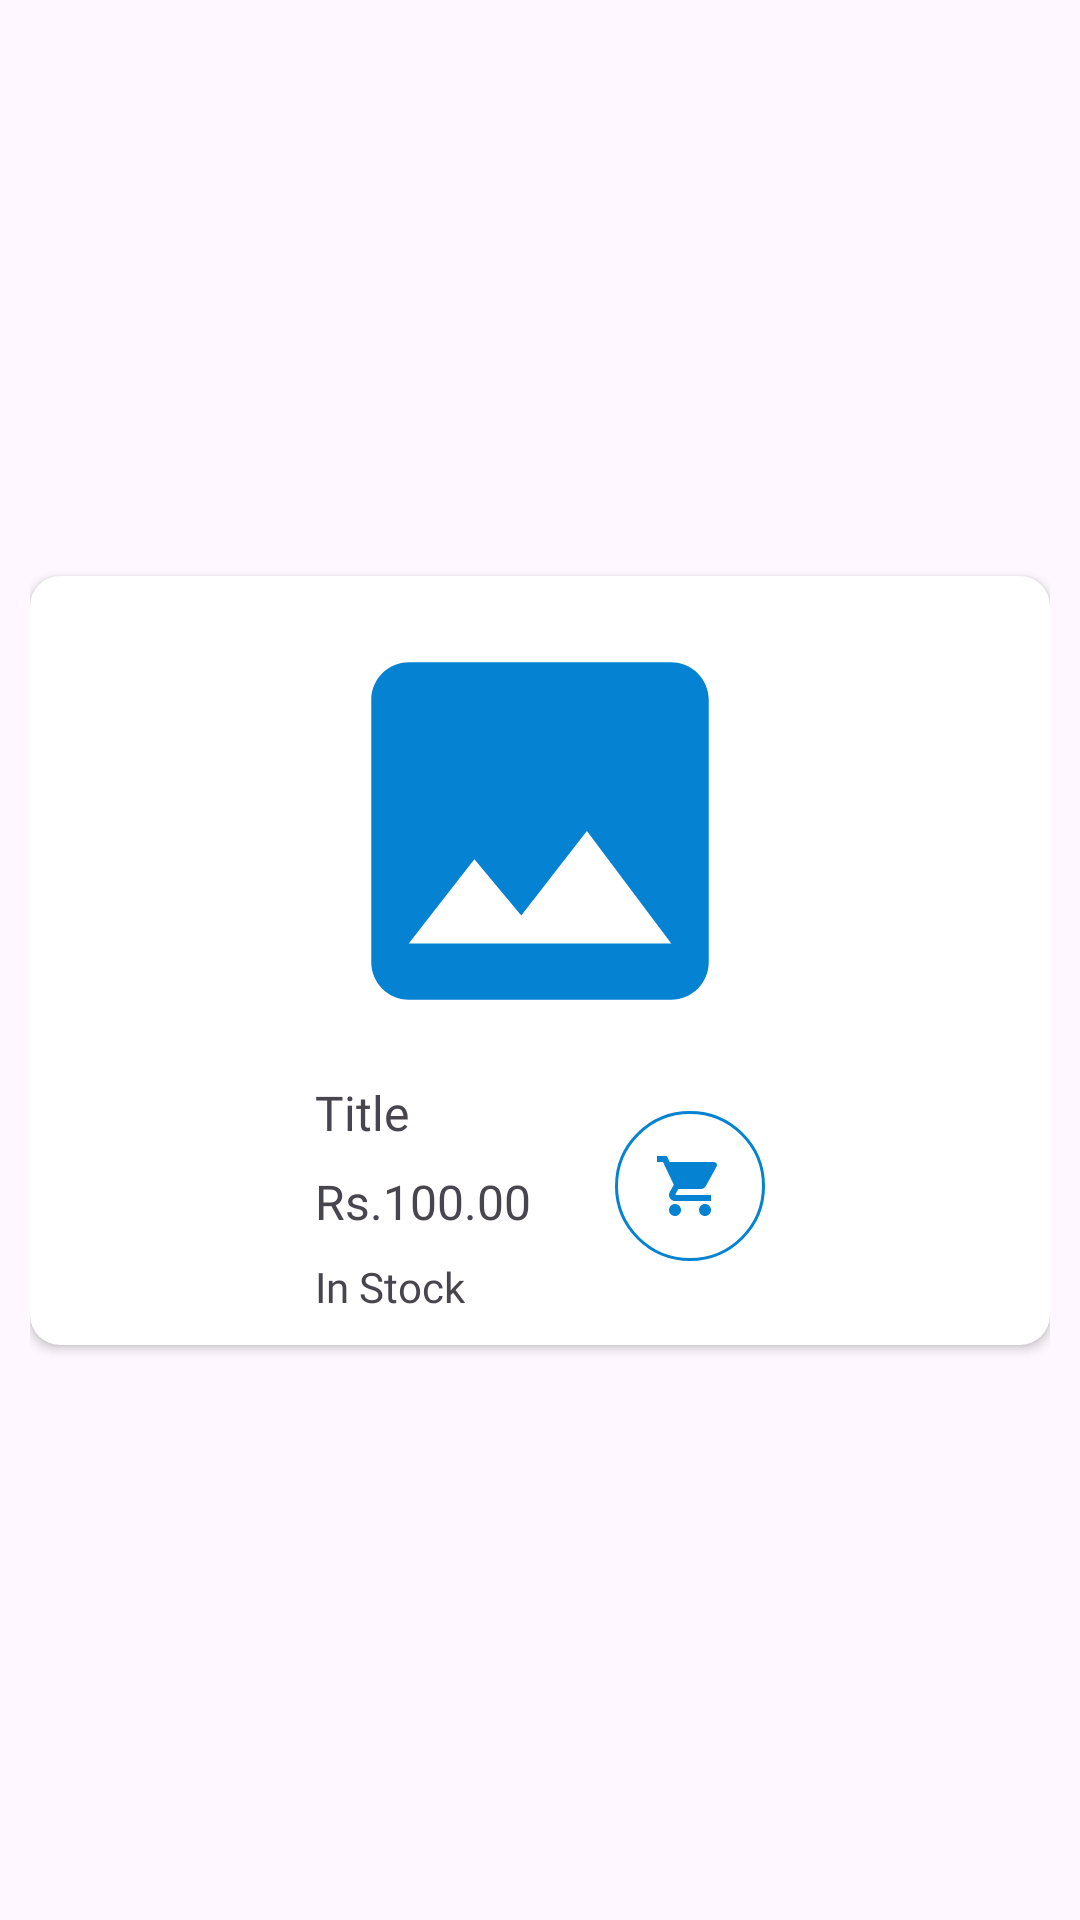

Point at icon controls on the screen. Image size 1080px×1920px, points as [x,y].
shopping cart: [690,1186]
